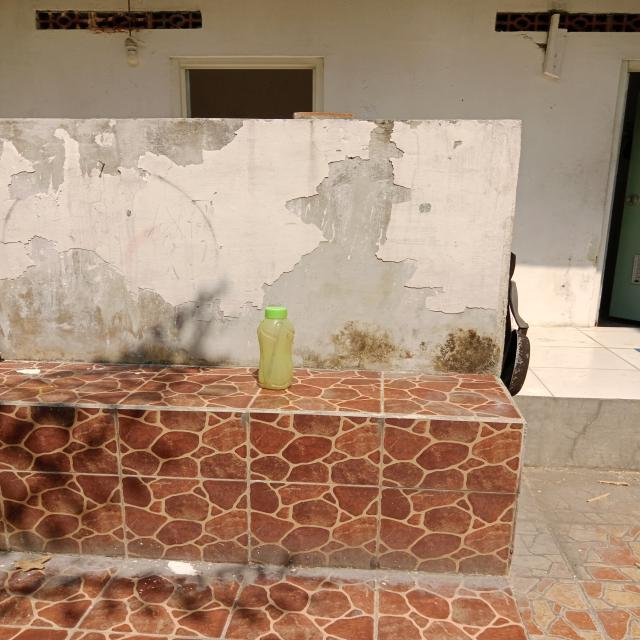botol_minum: (245, 294, 307, 396)
